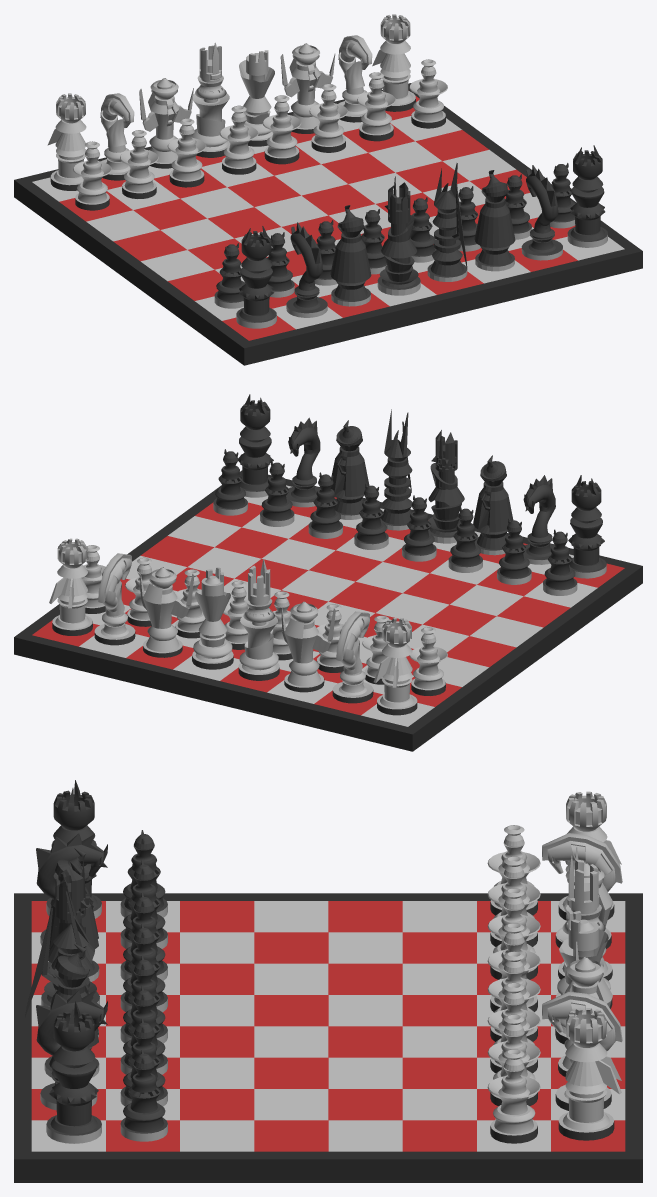
Rendered from chess.fbx.
3 renders of one model, top to bottom at view 1: azimuth 30°, elevation 25°; view 2: azimuth 150°, elevation 25°; view 3: azimuth 270°, elevation 25°, orthographic. The views are drawn at different scales.
Parts seen in each view (by area): view 1: pPlane1, pCylinder15, pCylinder29, pCylinder4, pCylinder14, pCylinder1, pCylinder27, pCylinder11, pCylinder19, pCylinder10, pCylinder17, pCylinder2 (+21 smaller); view 2: pPlane1, pCylinder14, pCylinder17, pCylinder2, pCylinder10, pCylinder19, pCylinder29, pCylinder16, pCylinder15, pCylinder4, pCylinder27, pCylinder11 (+21 smaller); view 3: pPlane1, pCylinder10, pCylinder4, pCylinder3, pCylinder6, pCylinder18, pCylinder15, pCylinder29, pCylinder13, pCylinder12, pCylinder14, pCylinder28 (+21 smaller).
Boxes of the visible parts, box(x1,y1,x2,y2) form: pPlane1: box(14, 83, 642, 365); pCylinder15: box(377, 176, 420, 295); pCylinder29: box(236, 226, 276, 328); pCylinder4: box(567, 145, 607, 247); pCylinder14: box(192, 42, 230, 157); pCylinder1: box(427, 163, 467, 281); pCylinder27: box(330, 205, 371, 306); pCylinder11: box(474, 170, 515, 271); pCylinder19: box(47, 93, 86, 190); pCylinder10: box(372, 14, 415, 111); pCylinder17: box(139, 78, 193, 168); pCylinder2: box(280, 43, 335, 133); pPlane1: box(14, 470, 642, 751); pCylinder14: box(238, 559, 279, 680); pCylinder17: box(281, 601, 335, 692); pCylinder2: box(140, 567, 194, 657); pCylinder10: box(49, 538, 92, 635); pCylinder19: box(373, 617, 417, 715); pCylinder29: box(568, 475, 606, 578); pCylinder16: box(192, 567, 233, 669); pCylinder15: box(428, 430, 464, 543); pCylinder4: box(238, 394, 273, 497); pCylinder27: box(473, 455, 513, 555); pCylinder11: box(330, 420, 369, 519); pPlane1: box(14, 893, 642, 1182); pCylinder10: box(558, 1008, 621, 1140); pCylinder4: box(46, 1001, 101, 1143); pCylinder3: box(487, 1049, 540, 1143); pCylinder6: box(120, 1049, 167, 1141); pCylinder18: box(542, 833, 622, 948); pCylinder15: box(41, 859, 99, 1006); pCylinder29: box(46, 780, 101, 918); pCylinder13: box(36, 990, 107, 1110); pCylinder12: box(542, 991, 622, 1110); pCylinder14: box(555, 855, 612, 1008); pCylinder28: box(36, 833, 107, 949).
Size of the model in its own units: 1.06 by 0.3355 by 1.06.
